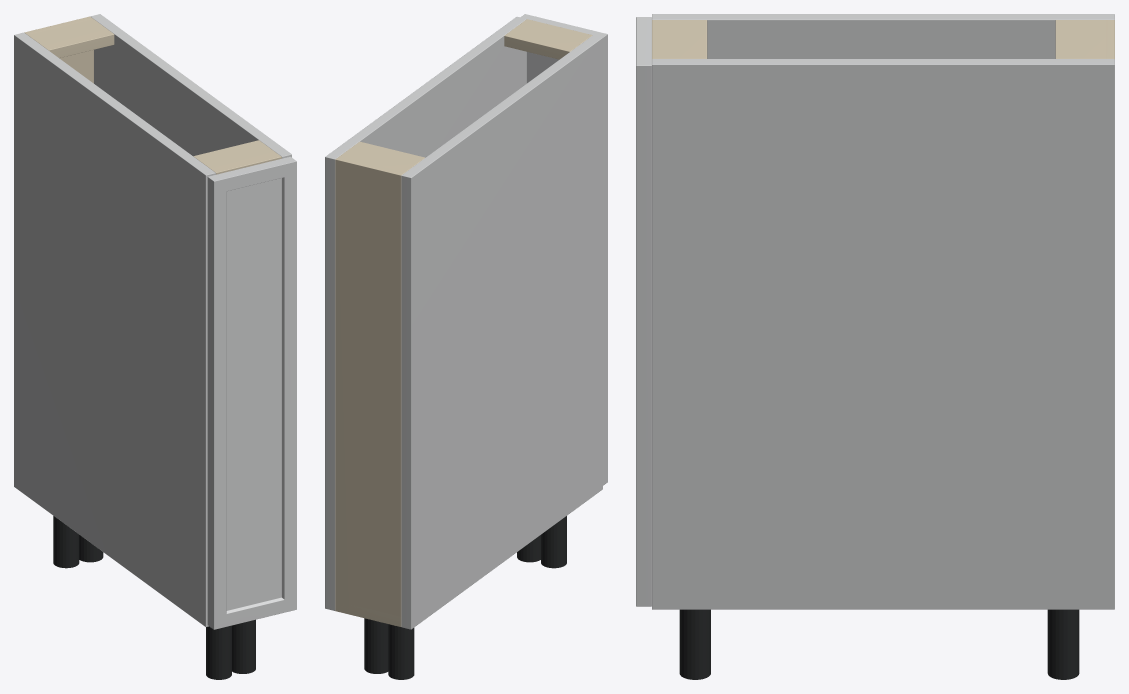
Rendered from oppein-ply-ssw-b06fh.glb.
3 views of the same model, side by side, from view 1: azimuth 30°, elevation 25°; view 2: azimuth 150°, elevation 25°; view 3: azimuth 270°, elevation 25° (orthographic). The views are drawn at different scales.
Parts seen in each view (by area): view 1: Cabinet side, Door, Cabinet side.001, Top support rail, Top support rail.001, Adjustable foot.001, Adjustable foot.003, Adjustable foot, Cabinet back, Adjustable foot.002; view 2: Cabinet side, Cabinet back, Cabinet side.001, Door, Top support rail.001, Adjustable foot, Top support rail, Adjustable foot.002, Adjustable foot.001, Cabinet bottom, Adjustable foot.003; view 3: Cabinet side.001, Cabinet side, Door, Adjustable foot.002, Adjustable foot.003, Top support rail.001, Top support rail.
Boxes of the visible parts, box(x1,y1,x2,y2) form: Cabinet side: box(14, 32, 215, 626); Door: box(207, 156, 296, 629); Cabinet side.001: box(90, 14, 291, 158); Top support rail: box(26, 19, 114, 58); Top support rail.001: box(193, 140, 281, 174); Adjustable foot.001: box(206, 625, 231, 679); Adjustable foot.003: box(232, 619, 255, 673); Adjustable foot: box(53, 516, 79, 568); Cabinet back: box(24, 16, 93, 83); Adjustable foot.002: box(79, 535, 103, 562); Cabinet side: box(401, 35, 602, 629); Cabinet back: box(335, 156, 403, 626); Cabinet side.001: box(325, 16, 526, 610); Door: box(520, 14, 607, 485); Top support rail.001: box(504, 19, 592, 59); Adjustable foot: box(388, 624, 414, 679); Top support rail: box(339, 141, 424, 173); Adjustable foot.002: box(364, 618, 388, 673); Adjustable foot.001: box(541, 516, 566, 568); Cabinet bottom: box(335, 605, 401, 626); Adjustable foot.003: box(517, 535, 540, 562); Cabinet side.001: box(652, 59, 1114, 609); Cabinet side: box(652, 14, 1114, 58); Door: box(636, 17, 651, 606); Adjustable foot.002: box(1047, 609, 1079, 679); Adjustable foot.003: box(679, 609, 710, 679); Top support rail.001: box(652, 20, 707, 58); Top support rail: box(1055, 20, 1109, 58).
Size of the model in its own units: 0.1524 by 0.8763 by 0.6064.
